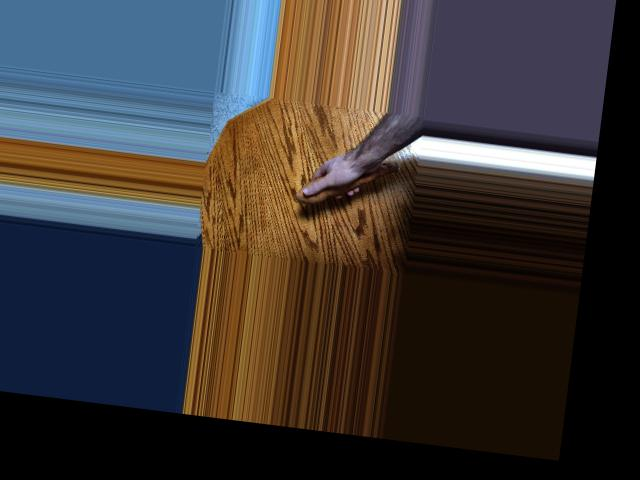sweet_potato: (293, 147, 406, 218)
